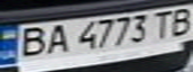3: (127, 11, 154, 46)
4: (75, 19, 100, 53)
7: (109, 15, 136, 49), (93, 16, 118, 51)
A: (39, 21, 72, 56)
B: (9, 25, 51, 60), (163, 4, 193, 37)
T: (148, 8, 175, 41)
